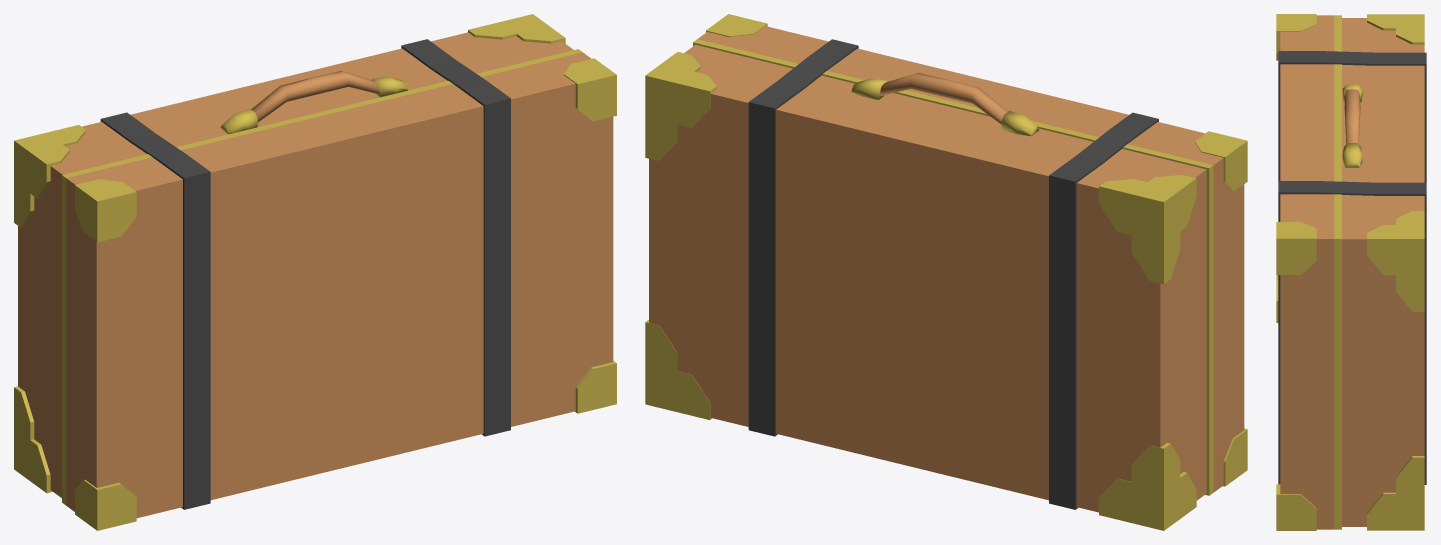
Rendered from Suitcase02.fbx.
3 views of the same model, side by side, from view 1: azimuth 30°, elevation 25°; view 2: azimuth 150°, elevation 25°; view 3: azimuth 270°, elevation 25° (orthographic). The views are drawn at different scales.
Visible parts, largest first — view 1: Cube; view 2: Cube; view 3: Cube.
Part boxes in pixels (x1,y1,x2,y2): Cube: [14, 14, 616, 530]; Cube: [645, 14, 1247, 530]; Cube: [1276, 14, 1426, 530].
Size of the model in its own units: 66.38 by 43.89 by 18.72.
